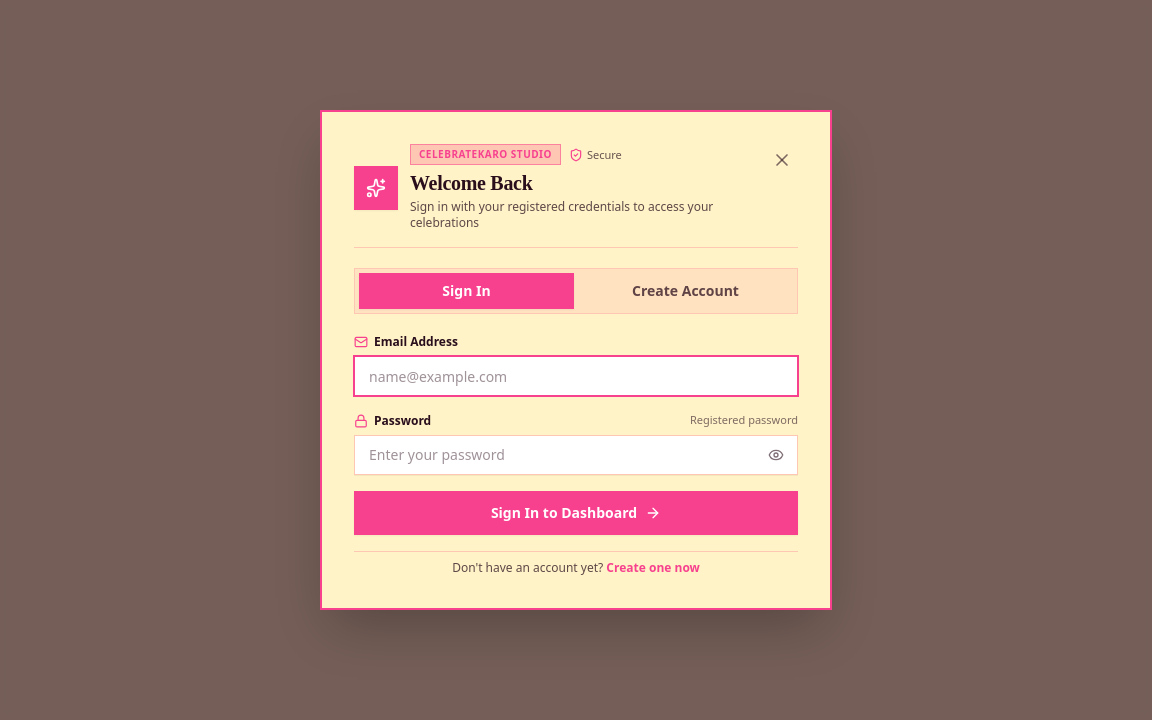
Test case: AuthModal Component › switches between Sign In and Create Account tabs
Step 1. Click the button "Create Account" → (686, 291), box [578,273,793,309]
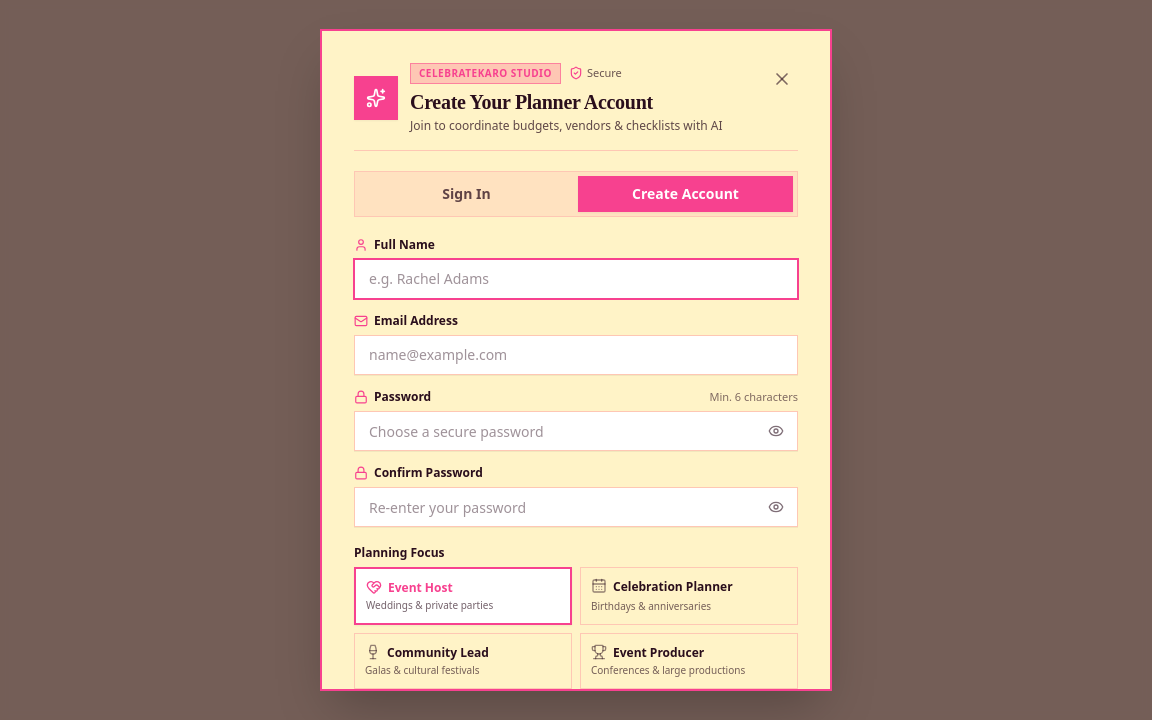
Check: the field with placeholder "e.g. Rachel Adams" is shown, box [354,259,798,299]
Check: the password field with placeholder "Choose a secure password" is shown, box [354,411,798,451]
Check: the password field with placeholder "Re-enter your password" is shown, box [354,487,798,527]
